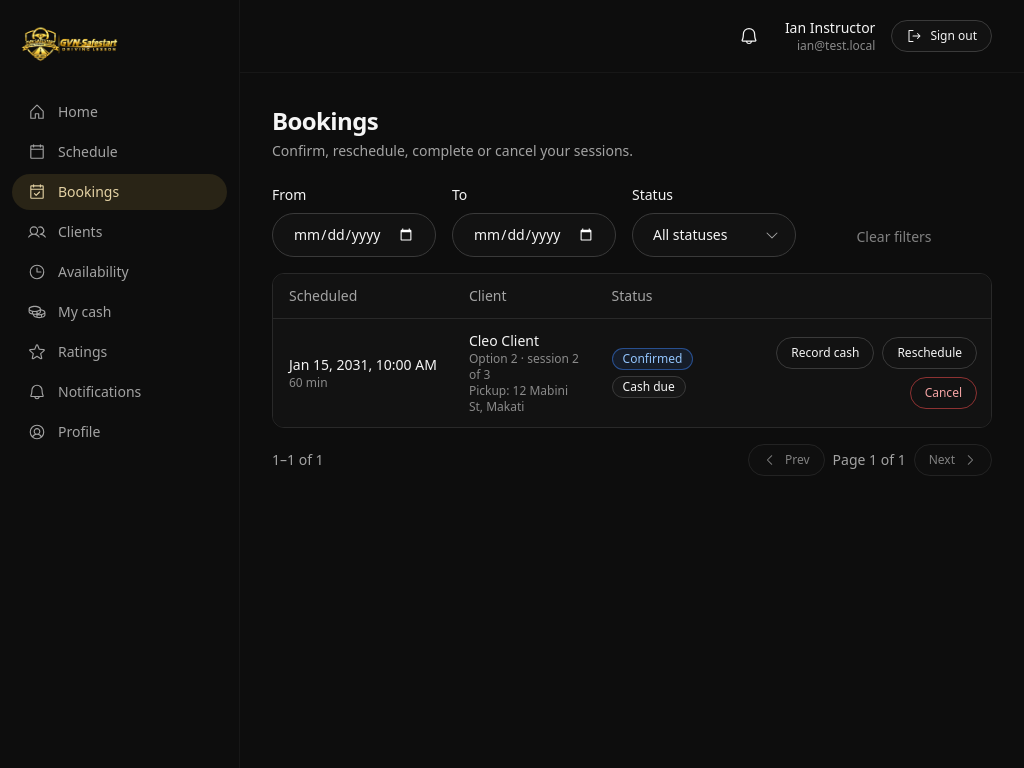
it: package sessions › shows session x of n and the pickup address, and prefills the package balance for cash
Expected: the text "Option 2 · session 2 of 3" is shown, [469,351,580,383]
Expected: the text "Pickup: 12 Mabini St, Makati" is shown, [469,383,580,415]
Click the button with aria-label "Record cash for Cleo Client".
click(825, 353)  # box [776,337,874,369]
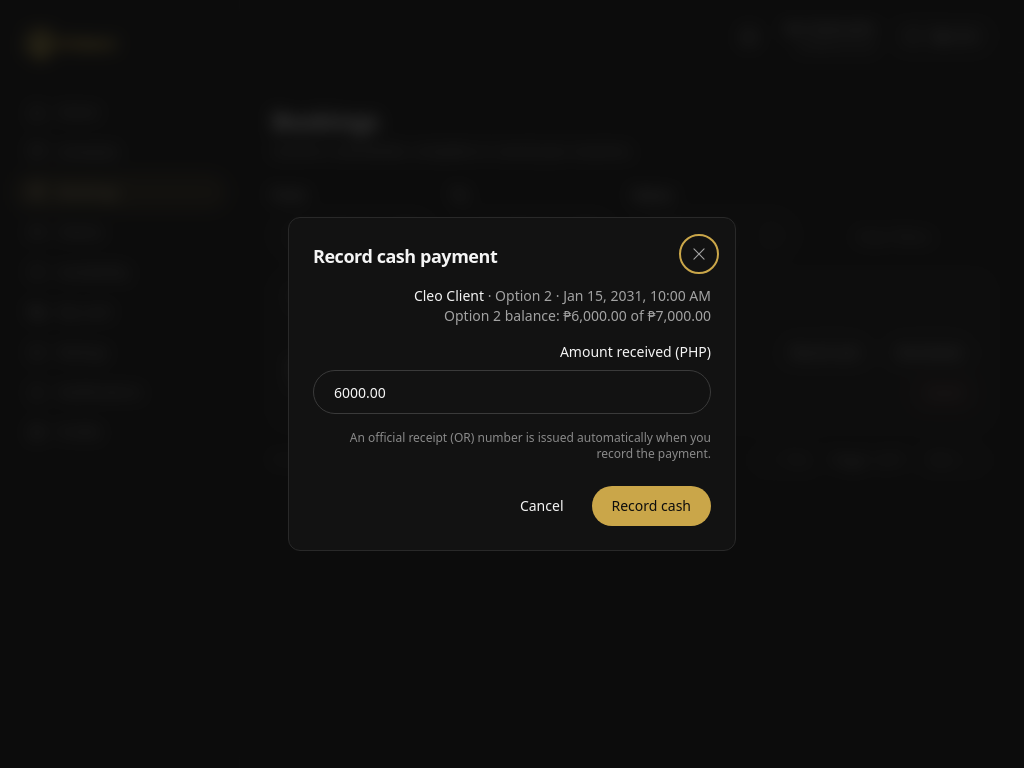
Expected: the field labelled "Amount received (PHP)" holds "6000.00", [313,370,711,414]
